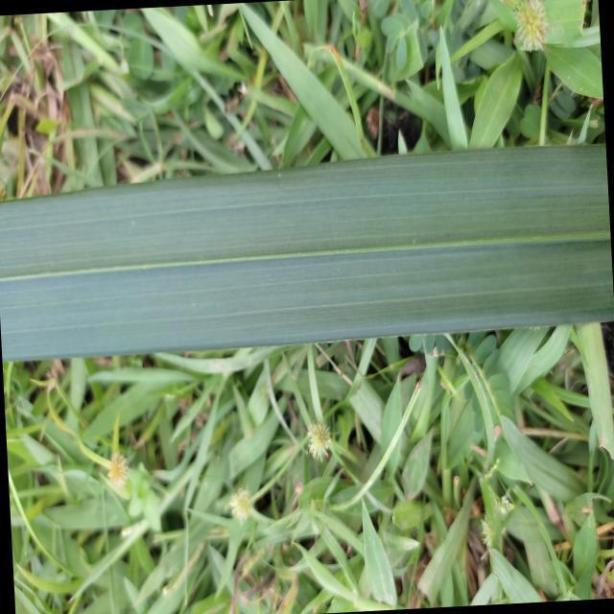Healthy: (1, 136, 614, 368)
